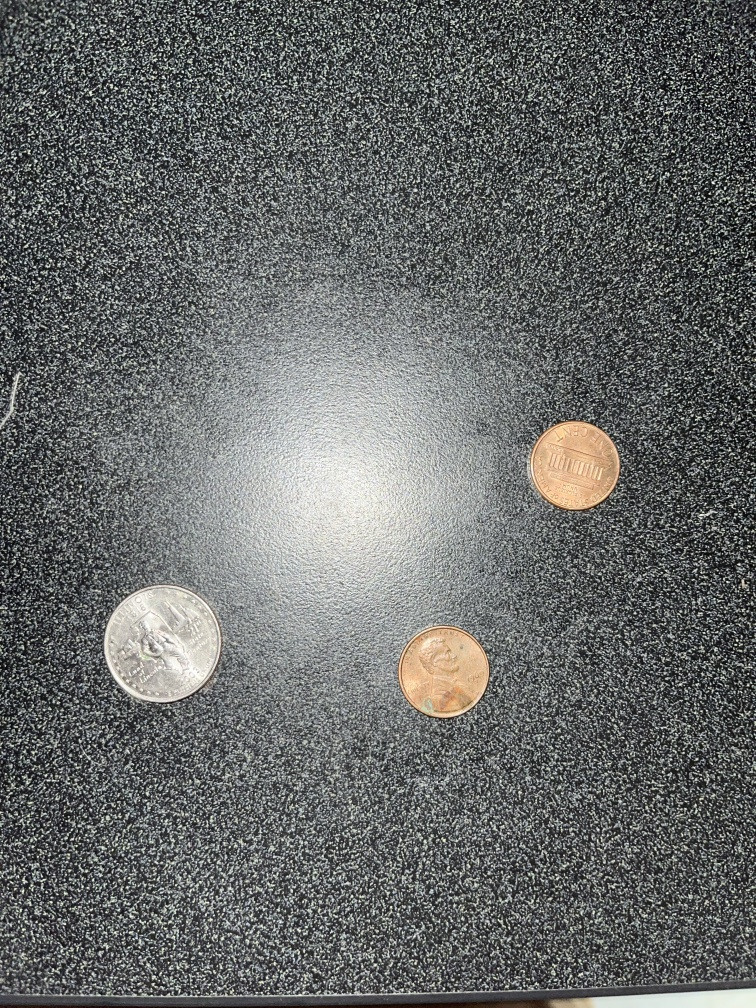penny: (399, 626, 492, 719), (529, 417, 621, 511)
quarter: (102, 582, 225, 706)
